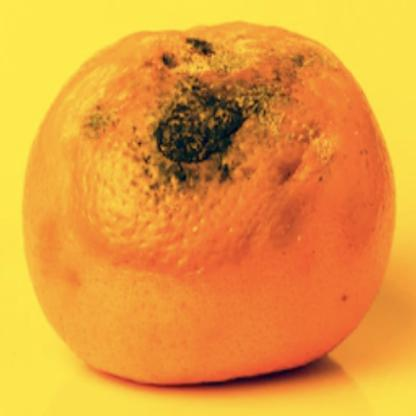rotten: (26, 21, 398, 388)
